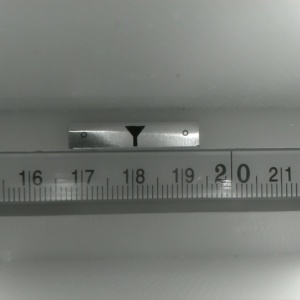0: (236, 163, 250, 183)
1: (17, 170, 24, 185), (70, 169, 77, 183), (121, 169, 127, 184), (171, 168, 177, 183)
2: (213, 164, 226, 183), (269, 166, 278, 182)
6: (31, 170, 42, 185)
7: (84, 169, 94, 183)
8: (134, 168, 144, 184)
9: (184, 168, 193, 183)
finger: (123, 126, 146, 147)
